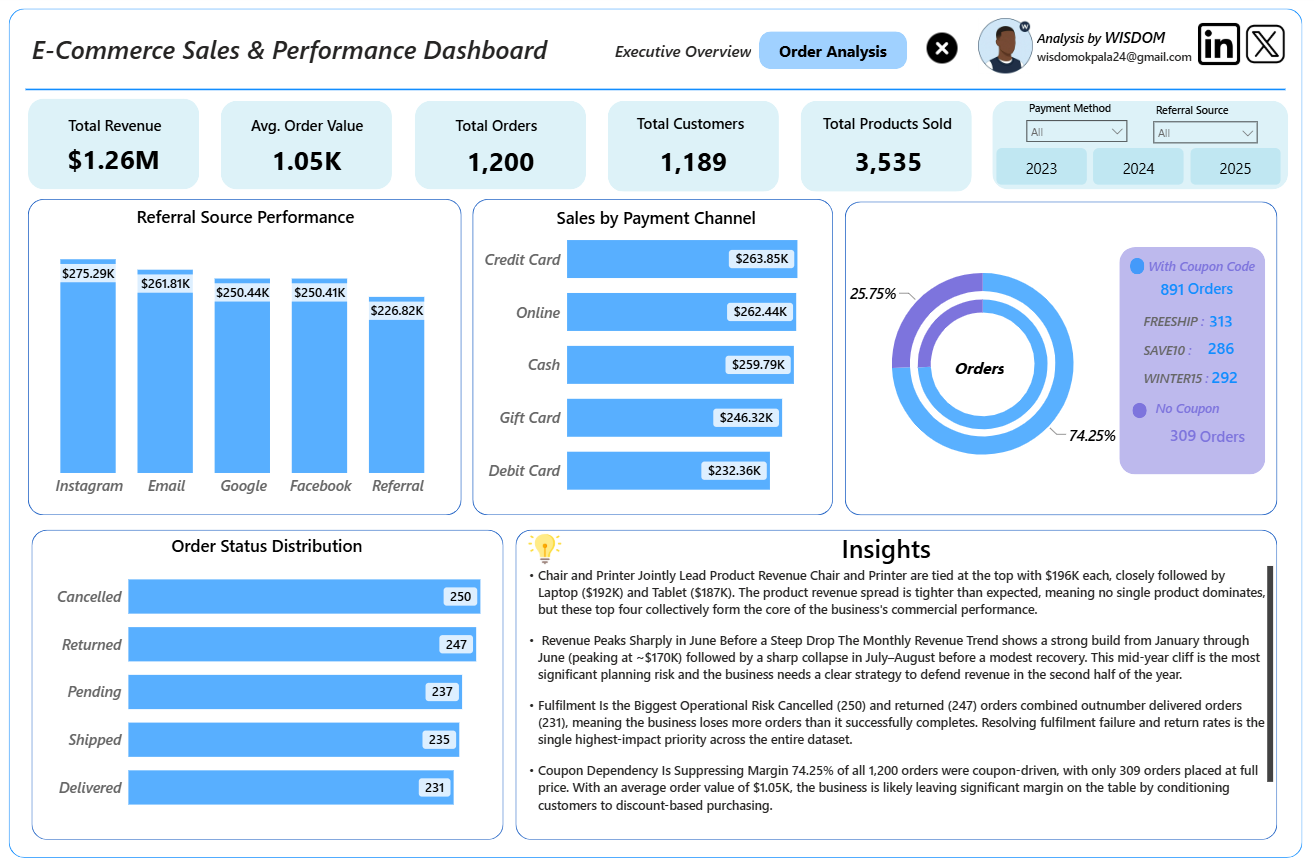

The dashboard page shown, as its layout file describes it:
{"tool":"powerbi","page":{"name":"Order Analysis","canvas":[1700,1100],"ordinal":1},"visuals":[{"type":"shape","box":[28.9,12.2,1640.7,1077.1],"z":0},{"type":"shape","box":[1450.9,328.2,18.2,21.3],"z":0,"group":"g3"},{"type":"cardVisual","fields":{"Data":["KPIs.With Coupon"]},"box":[1448.8,332.3,110.9,66.8],"z":0,"group":"g1"},{"type":"textbox","box":[1463.5,392,156.5,44],"z":0,"group":"g5"},{"type":"shape","box":[1453.3,511.9,18.2,19.7],"z":0,"group":"g4"},{"type":"cardVisual","fields":{"Data":["KPIs.Without Coupon"]},"box":[1462.3,518.6,110.9,66.8],"z":0,"group":"g2"},{"type":"textbox","box":[1469.1,322.1,156.5,44],"z":1000,"group":"g3"},{"type":"textbox","box":[1519.2,349,92.7,51.7],"z":1000,"group":"g1"},{"type":"textbox","box":[1463.5,428.4,156.5,44.1],"z":1000,"group":"g5"},{"type":"textbox","box":[1477.6,502.8,180.8,44.1],"z":1000,"group":"g4"},{"type":"textbox","box":[1533.7,536.8,92.7,48.6],"z":1000,"group":"g2"},{"type":"shape","box":[57.7,673,598.6,393.5],"z":1000},{"type":"group","id":"g1","title":"Group 2","box":[1448.8,332.3,163.1,68.4],"z":2000,"group":"g3"},{"type":"textbox","box":[1463.5,464.9,156.5,44.1],"z":2000,"group":"g5"},{"type":"group","id":"g2","title":"Group 1","box":[1462.3,518.6,164.1,66.8],"z":2000,"group":"g4"},{"type":"clusteredBarChart","fields":{"Y":["KPIs.Total Orders"],"Category":["Cleaned Data.Order Status"]},"box":[83.6,698.8,548.4,354],"z":2000},{"type":"textbox","box":[53.2,36.5,695.8,80.5],"z":3000},{"type":"cardVisual","fields":{"Data":["KPIs.FREESHIP"]},"box":[1518.2,379.8,97.2,53.2],"z":3000,"group":"g5"},{"type":"pageNavigator","box":[790,41,379.8,48.6],"z":4000},{"type":"cardVisual","fields":{"Data":["KPIs.SAVE10"]},"box":[1518.2,414.7,97.2,53.2],"z":4000,"group":"g5"},{"type":"textbox","box":[1327.3,30.4,209.6,45.6],"z":5000},{"type":"cardVisual","fields":{"Data":["KPIs.WINTER15"]},"box":[1522.7,451.2,97.2,53.2],"z":5000,"group":"g5"},{"type":"image","box":[1254.4,24.3,76,69.9],"z":6000},{"type":"textbox","box":[1327.3,57.7,220.3,31.9],"z":7000},{"type":"image","box":[1596.2,30.4,51.7,53.2],"z":8000},{"type":"image","box":[1532.4,30.4,62.3,53.2],"z":9000},{"type":"image","box":[1189,42.5,45.6,39.5],"z":10000},{"type":"shape","box":[49.7,100.3,1598.2,28.9],"z":11000},{"type":"shape","box":[671.5,673,966.2,393.5],"z":12000},{"type":"shape","box":[1089.2,256.7,548.4,398],"z":13000},{"type":"shape","box":[616.8,253.7,457.3,401.1],"z":14000},{"type":"shape","box":[53.2,253.7,549.9,401.1],"z":15000},{"type":"columnChart","fields":{"Category":["Cleaned Data.Referral Source"],"Y":["KPIs.Total Revenue"]},"box":[50.1,291.7,553,349.4],"z":16000},{"type":"clusteredBarChart","fields":{"Category":["Cleaned Data.Payment Method"],"Y":["KPIs.Total Revenue"]},"box":[625.9,265.9,448.2,390.4],"z":17000},{"type":"donutChart","fields":{"Y":["KPIs.Total Orders"],"Category":["Cleaned Data.Coupon Type"]},"box":[1075.6,267.4,376.7,390.4],"z":18000},{"type":"shape","box":[52.7,126.1,217.2,115.5],"z":19000},{"type":"shape","box":[297.3,129.1,217.2,112.4],"z":20000},{"type":"shape","box":[1032.6,129.1,217.2,115.5],"z":21000},{"type":"shape","box":[543.4,129.1,217.2,112.4],"z":22000},{"type":"shape","box":[788,129.1,217.2,115.5],"z":23000},{"type":"shape","box":[1275.6,129.1,375.2,112.4],"z":24000},{"type":"textbox","box":[700.3,256.7,299.3,59.2],"z":25000},{"type":"textbox","box":[179.3,255.2,299.3,59.2],"z":26000},{"type":"textbox","box":[206.6,673,299.3,59.2],"z":27000},{"type":"donutChart","fields":{"Y":["KPIs.Total Orders"],"Category":["Cleaned Data.Coupon Type"]},"box":[1156.1,346.4,215.7,233.9],"z":28000},{"type":"advancedSlicerVisual","fields":{"Values":["Cleaned Data.Date.Variation.Date Hierarchy.Year"]},"box":[1276.1,183.8,372.2,57.7],"z":29000},{"type":"shape","box":[1437.1,314.5,185.3,288.6],"z":30000},{"type":"slicer","fields":{"Values":["Cleaned Data.Payment Method"]},"box":[1309.5,124.6,147.4,59.2],"z":31000},{"type":"slicer","fields":{"Values":["Cleaned Data.Referral Source"]},"box":[1470.6,126.1,151.9,57.7],"z":32000},{"type":"cardVisual","fields":{"Data":["KPIs.Total Orders"]},"box":[1198.6,413.2,164.1,106.3],"z":33000},{"type":"group","id":"g3","title":"Group 3","box":[1448.8,322.1,176.7,78.5],"z":34000},{"type":"group","id":"g4","title":"Group 4","box":[1453.3,502.8,205.1,82.7],"z":35000},{"type":"group","id":"g5","title":"Group 5","box":[1463.5,379.8,156.5,129.1],"z":36000},{"type":"card","fields":{"Values":["KPIs.Total Revenue"]},"box":[67.9,161,186.9,83.6],"z":37000},{"type":"textbox","box":[87.6,142.8,150.4,42.5],"z":38000},{"type":"card","fields":{"Values":["KPIs.Average Order Value"]},"box":[312.5,162.6,186.9,83.6],"z":39000},{"type":"textbox","box":[323.1,142.8,167.1,42.5],"z":40000},{"type":"card","fields":{"Values":["KPIs.Total Orders"]},"box":[573.8,164.1,156.5,83.6],"z":41000},{"type":"card","fields":{"Values":["KPIs.Total Customers"]},"box":[813.8,164.1,165.6,83.6],"z":42000},{"type":"card","fields":{"Values":["KPIs.Total Products Sold"]},"box":[1061.4,164.1,165.6,83.6],"z":43000},{"type":"textbox","box":[563.1,142.8,167.1,42.5],"z":44000},{"type":"textbox","box":[809.2,139.8,167.1,42.5],"z":45000},{"type":"textbox","box":[1044.7,139.8,196,42.5],"z":46000},{"type":"textbox","box":[671.5,714,966.2,338.8],"z":47000},{"type":"textbox","box":[992,670,299.3,59.2],"z":48000},{"type":"image","box":[686.7,673,44.1,48.6],"z":49000}]}

Visuals, with their boxes in screenshot pixels (x1, y1, x2, y2), scaled from the page's 1700x1100 canvas onto the 1314x862 screenshot:
shape: BBox(22, 10, 1291, 854)
shape: BBox(1121, 257, 1136, 274)
cardVisual - KPIs.With Coupon: BBox(1120, 260, 1206, 313)
textbox: BBox(1131, 307, 1252, 342)
shape: BBox(1123, 401, 1137, 417)
cardVisual - KPIs.Without Coupon: BBox(1130, 406, 1216, 459)
textbox: BBox(1136, 252, 1256, 287)
textbox: BBox(1174, 273, 1246, 314)
textbox: BBox(1131, 336, 1252, 370)
textbox: BBox(1142, 394, 1282, 429)
textbox: BBox(1185, 421, 1257, 459)
shape: BBox(45, 527, 507, 836)
"Group 2" group: BBox(1120, 260, 1246, 314)
textbox: BBox(1131, 364, 1252, 399)
"Group 1" group: BBox(1130, 406, 1257, 459)
clusteredBarChart - KPIs.Total Orders x Cleaned Data.Order Status: BBox(65, 548, 488, 825)
textbox: BBox(41, 29, 579, 92)
cardVisual - KPIs.FREESHIP: BBox(1173, 298, 1249, 339)
pageNavigator: BBox(611, 32, 904, 70)
cardVisual - KPIs.SAVE10: BBox(1173, 325, 1249, 367)
textbox: BBox(1026, 24, 1188, 60)
cardVisual - KPIs.WINTER15: BBox(1177, 354, 1252, 395)
image: BBox(970, 19, 1028, 74)
textbox: BBox(1026, 45, 1196, 70)
image: BBox(1234, 24, 1274, 66)
image: BBox(1184, 24, 1233, 66)
image: BBox(919, 33, 954, 64)
shape: BBox(38, 79, 1274, 101)
shape: BBox(519, 527, 1266, 836)
shape: BBox(842, 201, 1266, 513)
shape: BBox(477, 199, 830, 513)
shape: BBox(41, 199, 466, 513)
columnChart - Cleaned Data.Referral Source x KPIs.Total Revenue: BBox(39, 229, 466, 502)
clusteredBarChart - Cleaned Data.Payment Method x KPIs.Total Revenue: BBox(484, 208, 830, 514)
donutChart - KPIs.Total Orders x Cleaned Data.Coupon Type: BBox(831, 210, 1123, 515)
shape: BBox(41, 99, 209, 189)
shape: BBox(230, 101, 398, 189)
shape: BBox(798, 101, 966, 192)
shape: BBox(420, 101, 588, 189)
shape: BBox(609, 101, 777, 192)
shape: BBox(986, 101, 1276, 189)
textbox: BBox(541, 201, 773, 248)
textbox: BBox(139, 200, 370, 246)
textbox: BBox(160, 527, 391, 574)
donutChart - KPIs.Total Orders x Cleaned Data.Coupon Type: BBox(894, 271, 1060, 455)
advancedSlicerVisual - Cleaned Data.Date.Variation.Date Hierarchy.Year: BBox(986, 144, 1274, 189)
shape: BBox(1111, 246, 1254, 473)
slicer - Cleaned Data.Payment Method: BBox(1012, 98, 1126, 144)
slicer - Cleaned Data.Referral Source: BBox(1137, 99, 1254, 144)
cardVisual - KPIs.Total Orders: BBox(926, 324, 1053, 407)
"Group 3" group: BBox(1120, 252, 1256, 314)
"Group 4" group: BBox(1123, 394, 1282, 459)
"Group 5" group: BBox(1131, 298, 1252, 399)
card - KPIs.Total Revenue: BBox(52, 126, 197, 192)
textbox: BBox(68, 112, 184, 145)
card - KPIs.Average Order Value: BBox(242, 127, 386, 193)
textbox: BBox(250, 112, 379, 145)
card - KPIs.Total Orders: BBox(444, 129, 564, 194)
card - KPIs.Total Customers: BBox(629, 129, 757, 194)
card - KPIs.Total Products Sold: BBox(820, 129, 948, 194)
textbox: BBox(435, 112, 564, 145)
textbox: BBox(625, 110, 755, 143)
textbox: BBox(807, 110, 959, 143)
textbox: BBox(519, 560, 1266, 825)
textbox: BBox(767, 525, 998, 571)
image: BBox(531, 527, 565, 565)
